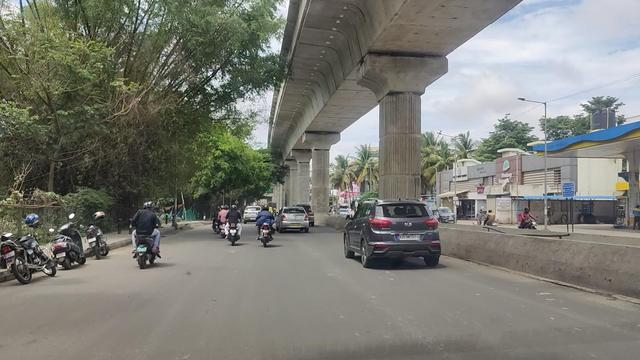LMV: (351, 193, 459, 272), (129, 197, 159, 272), (253, 200, 278, 249), (224, 200, 242, 246)
